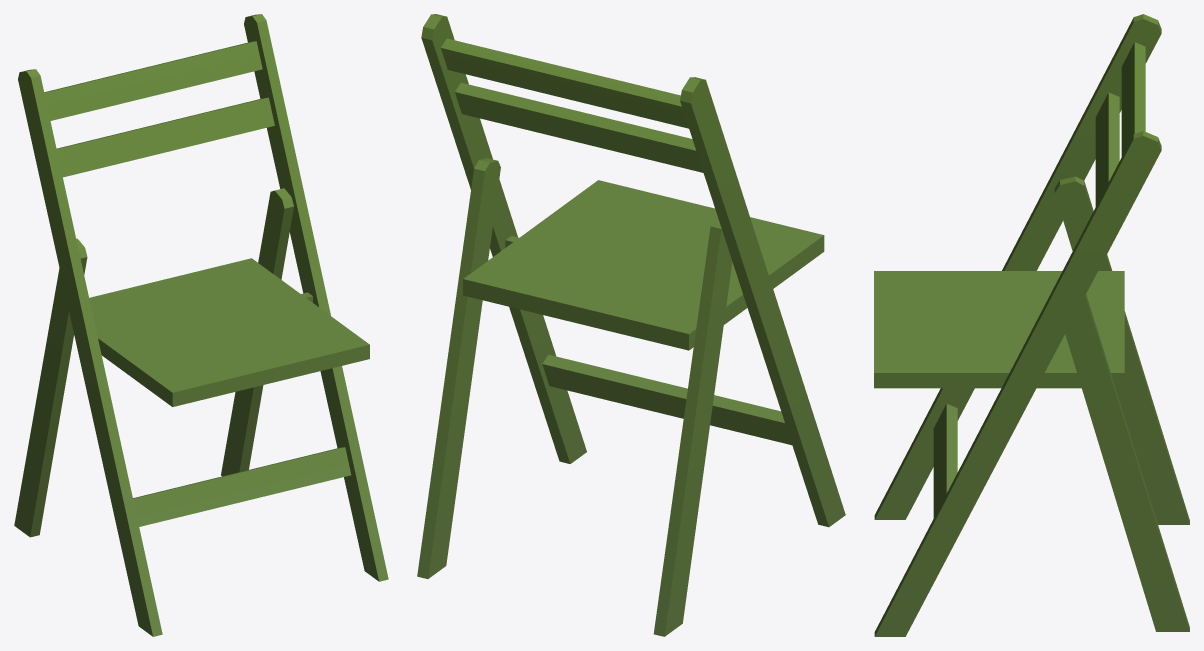
The model's file is Chair_02.fbx.
The picture shows the model from 3 angles, left to right: view 1: azimuth 30°, elevation 25°; view 2: azimuth 150°, elevation 25°; view 3: azimuth 270°, elevation 25°; orthographic projection. The views are drawn at different scales.
Visible parts, largest first — view 1: Chair_02; view 2: Chair_02; view 3: Chair_02.
Part boxes in pixels (left/top/right/bottom): Chair_02: left=14, top=14, right=388, bottom=636; Chair_02: left=417, top=14, right=845, bottom=636; Chair_02: left=874, top=14, right=1189, bottom=636.
Size of the model in its own units: 0.5199 by 0.9971 by 0.5693.
